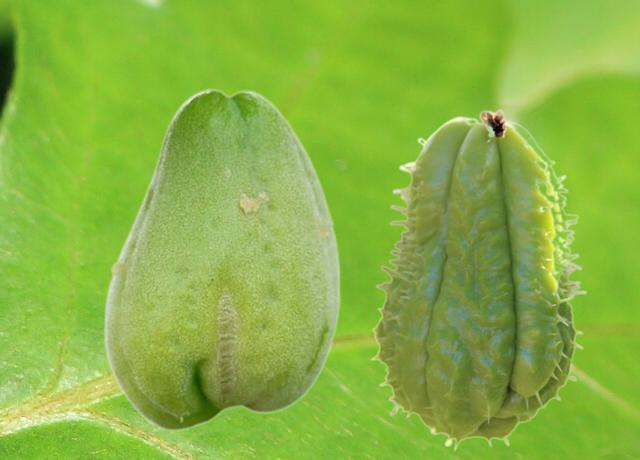sayote: (102, 87, 340, 430), (369, 108, 586, 451)
